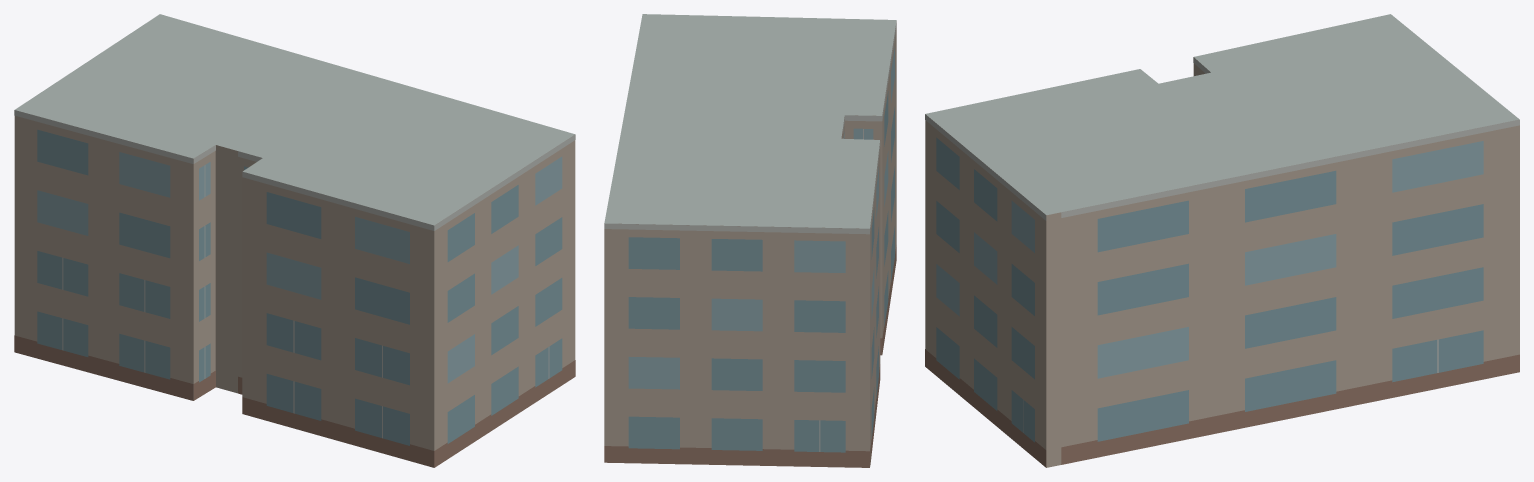
Rendered from survey-upis-32829111.glb.
The picture shows the model from 3 angles, left to right: view 1: azimuth 30°, elevation 25°; view 2: azimuth 150°, elevation 25°; view 3: azimuth 270°, elevation 25°; orthographic projection. The views are drawn at different scales.
Visible parts, largest first — view 1: survey-upis-32829111.tmp; view 2: survey-upis-32829111.tmp; view 3: survey-upis-32829111.tmp.
Part boxes in pixels (x1=…): survey-upis-32829111.tmp: x1=14, y1=14, x2=575, y2=467; survey-upis-32829111.tmp: x1=604, y1=14, x2=896, y2=467; survey-upis-32829111.tmp: x1=925, y1=14, x2=1519, y2=467.
Size of the model in its own units: 17.95 by 10.5 by 22.41.
